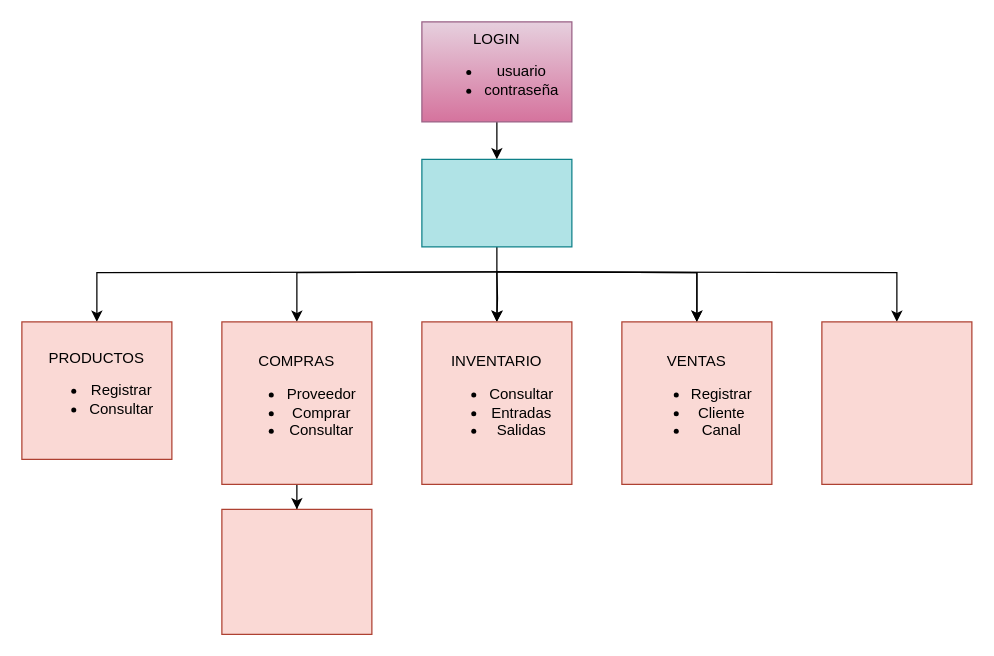
Image size: 994x656. Some labels were removed from this diagram. The shapes that lost their labels are listed below. From the top down, each one's centre as x and y in pixels, then its label:
the point at 496,202: DASHBOARD PANEL PRINCIPAL
the point at 896,402: REPORTES Historial Compras Ventas
the point at 296,571: PROVEEDOR Registrar Consultar
